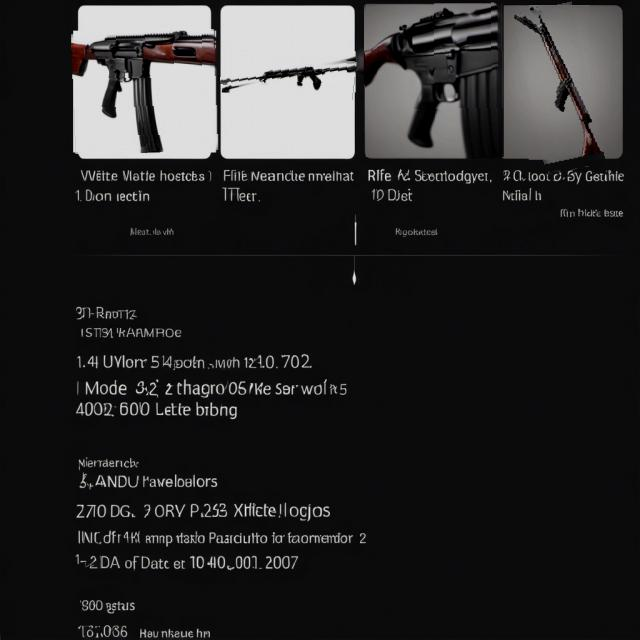gun: (365, 2, 504, 157), (71, 32, 216, 153), (515, 10, 605, 167), (220, 61, 357, 97)
